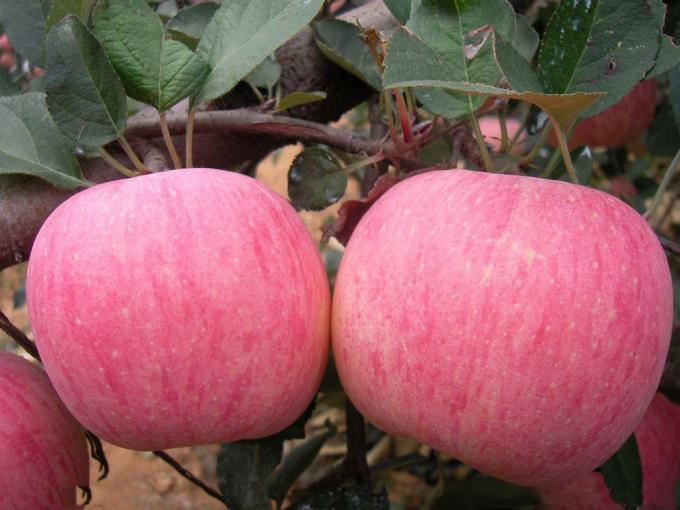apple: (326, 176, 675, 503), (24, 178, 322, 461)
